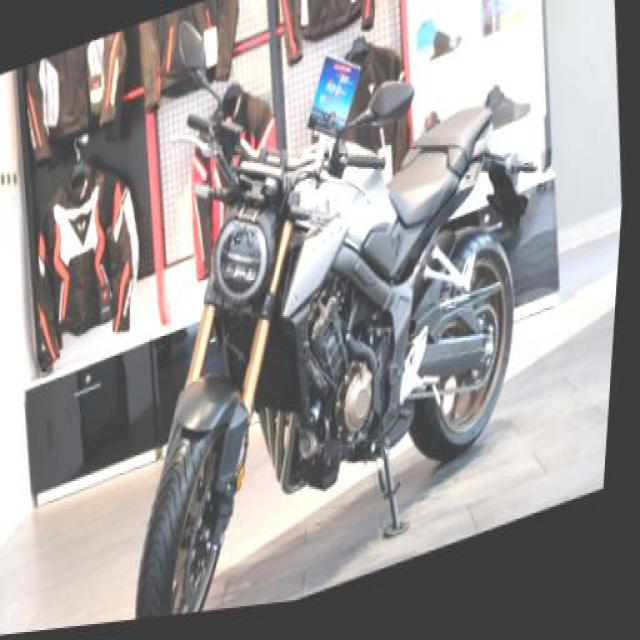CB650R: (101, 60, 558, 626)
